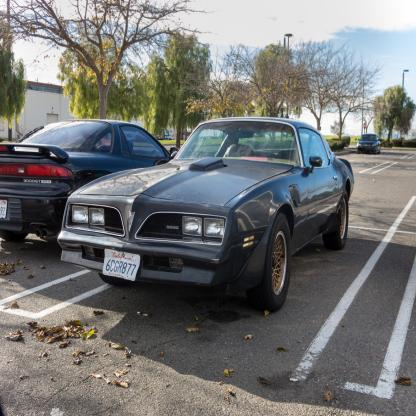Car: (58, 120, 355, 314), (1, 121, 180, 243)
